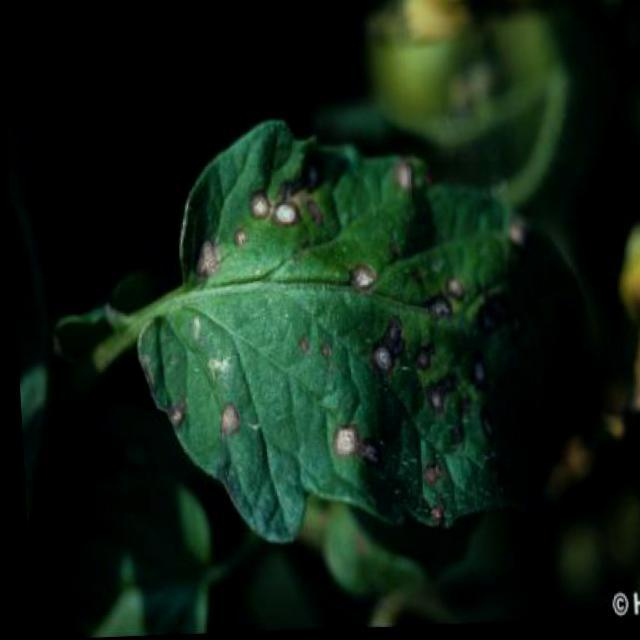Tomato Septoria spot leaf: (76, 115, 624, 588)
